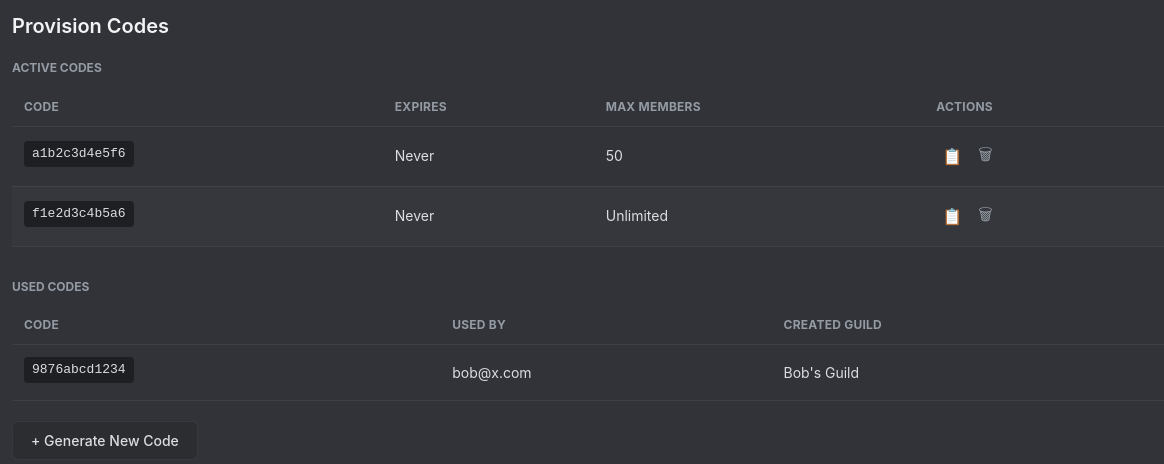
Test: P14 — Node Admin Panel › revoke code removes it from active list
This screenshot has width=1164, height=464.
Click the button with test id "revoke-a1b2c3d4e5f6" at (985, 156), box [972,139,999,174]
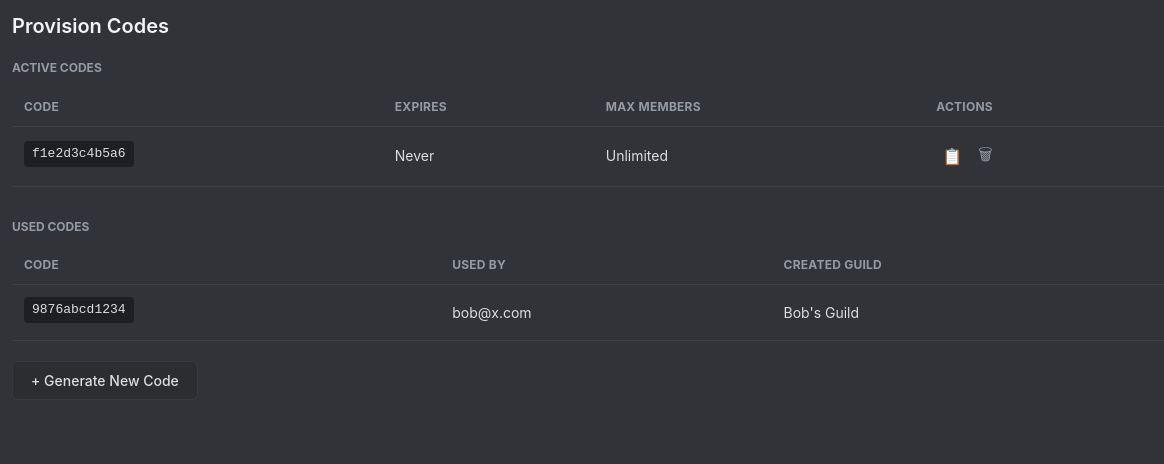
Check: the row with test id "code-row-a1b2c3d4e5f6" is gone
